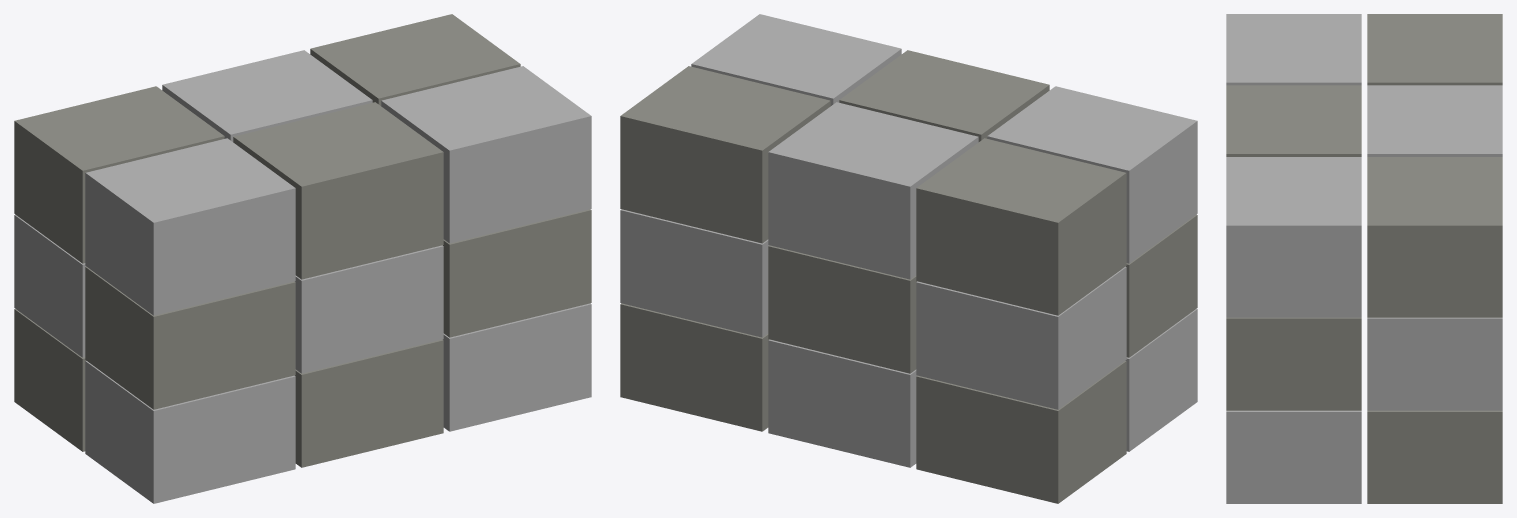
File: SM_Palots_v1_Bloque_LOD1.fbx
3 renders of one model, left to right at view 1: azimuth 30°, elevation 25°; view 2: azimuth 150°, elevation 25°; view 3: azimuth 270°, elevation 25°, orthographic.
Visible parts, largest first — view 1: SM_viveres_nules_v21_LOD1; view 2: SM_viveres_nules_v21_LOD1; view 3: SM_viveres_nules_v21_LOD1.
Part boxes in pixels (x1,y1,x2,y2): SM_viveres_nules_v21_LOD1: (14,14,591,503); SM_viveres_nules_v21_LOD1: (620,14,1197,503); SM_viveres_nules_v21_LOD1: (1226,14,1502,503).
Size of the model in its own units: 3.7 by 2.27 by 2.04.
